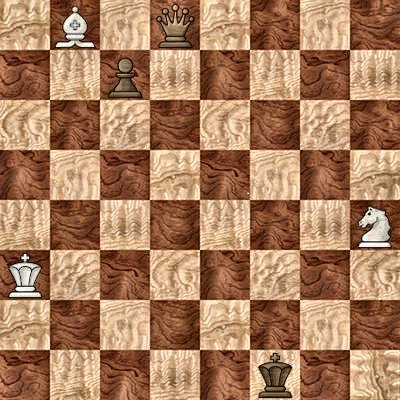black-king: (250, 350, 300, 400)
black-pawn: (100, 50, 150, 100)
black-queen: (150, 0, 200, 50)
white-bishop: (50, 0, 100, 50)
white-king: (0, 250, 50, 300)
white-knight: (350, 200, 400, 250)
